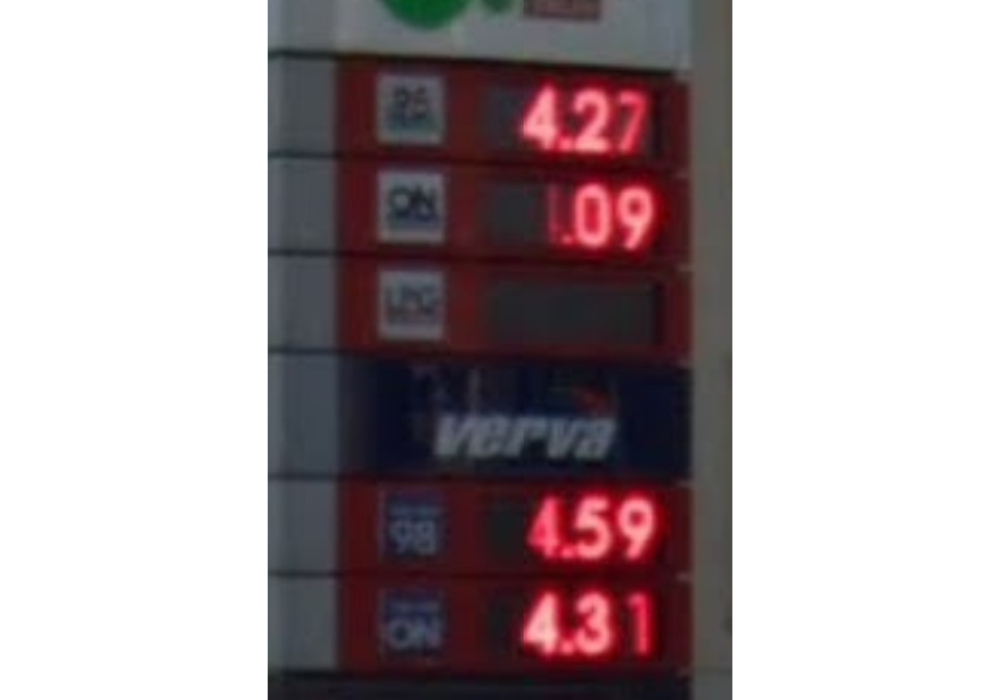ON: (368, 168, 450, 243), (379, 583, 449, 656)
PB98: (375, 489, 448, 566)
